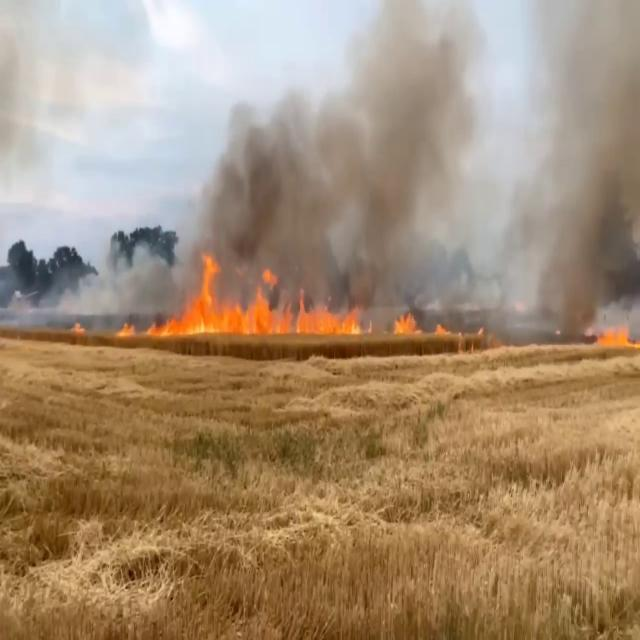Fire: (158, 252, 366, 346), (592, 318, 640, 354), (389, 304, 422, 340)
Smoke: (191, 1, 495, 300), (501, 0, 640, 329), (19, 226, 179, 316)
